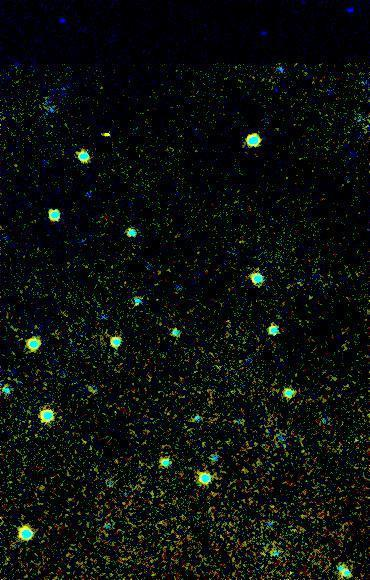star: (92, 122, 122, 152)
